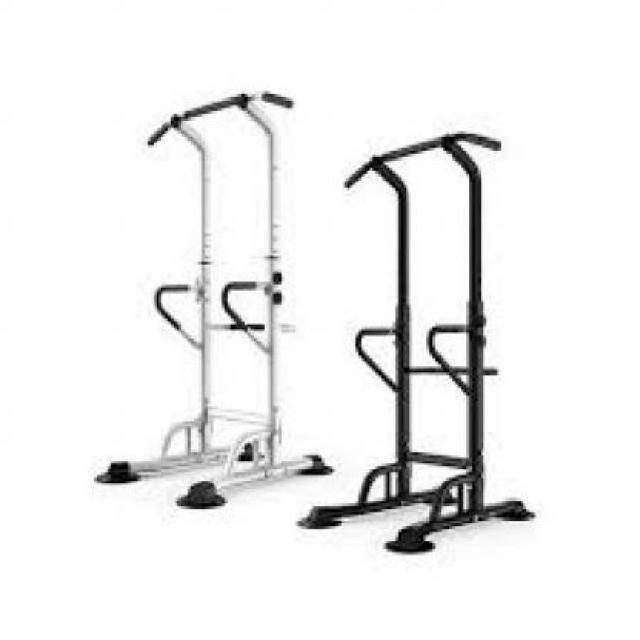chinning dipping: (92, 88, 334, 514), (330, 129, 538, 554)
